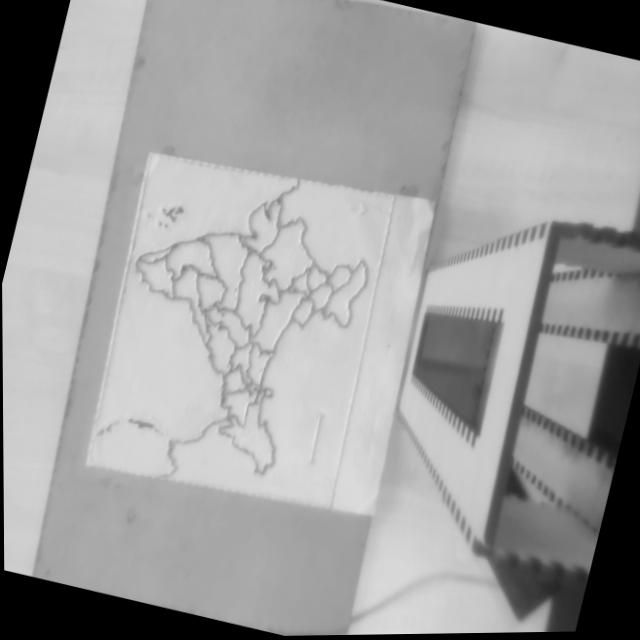map: (86, 145, 394, 513)
